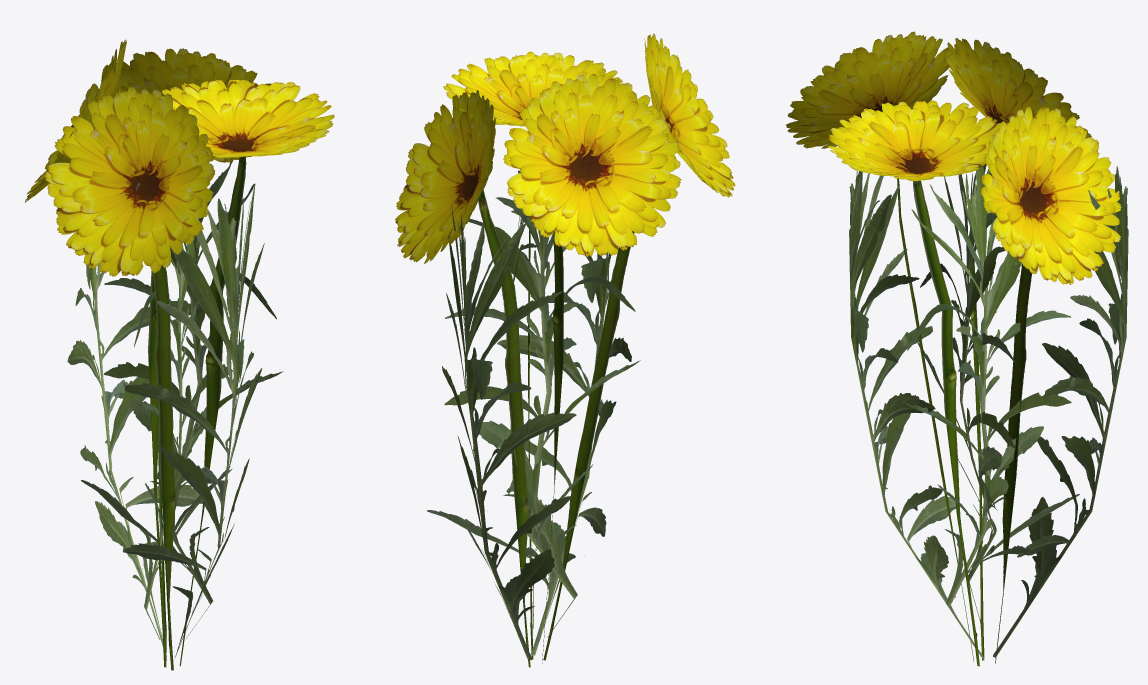
File: Flower 2.fbx
3 views of the same model, side by side, from view 1: azimuth 30°, elevation 25°; view 2: azimuth 150°, elevation 25°; view 3: azimuth 270°, elevation 25° (orthographic). The views are drawn at different scales.
Visible parts, largest first — view 1: Flower_2; view 2: Flower_2; view 3: Flower_2.
Part boxes in pixels (x1,y1,x2,y2): Flower_2: [24, 39, 334, 670]; Flower_2: [395, 33, 735, 667]; Flower_2: [786, 31, 1128, 666].
Size of the model in its own units: 0.1426 by 0.2839 by 0.1523.
